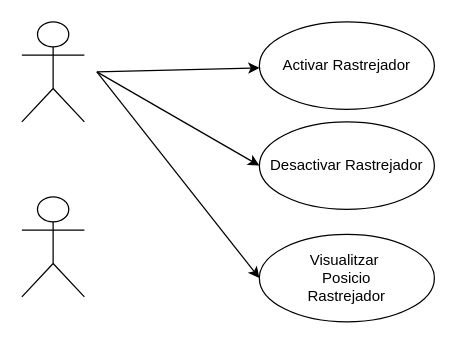
This 456x345 diagram has some shape labels left out. The shapes that lost their labels are listed below. From the top down, each one's centre as x and y in pixels, then its label:
pixel 52 71: Persona
pixel 52 246: Mascota
